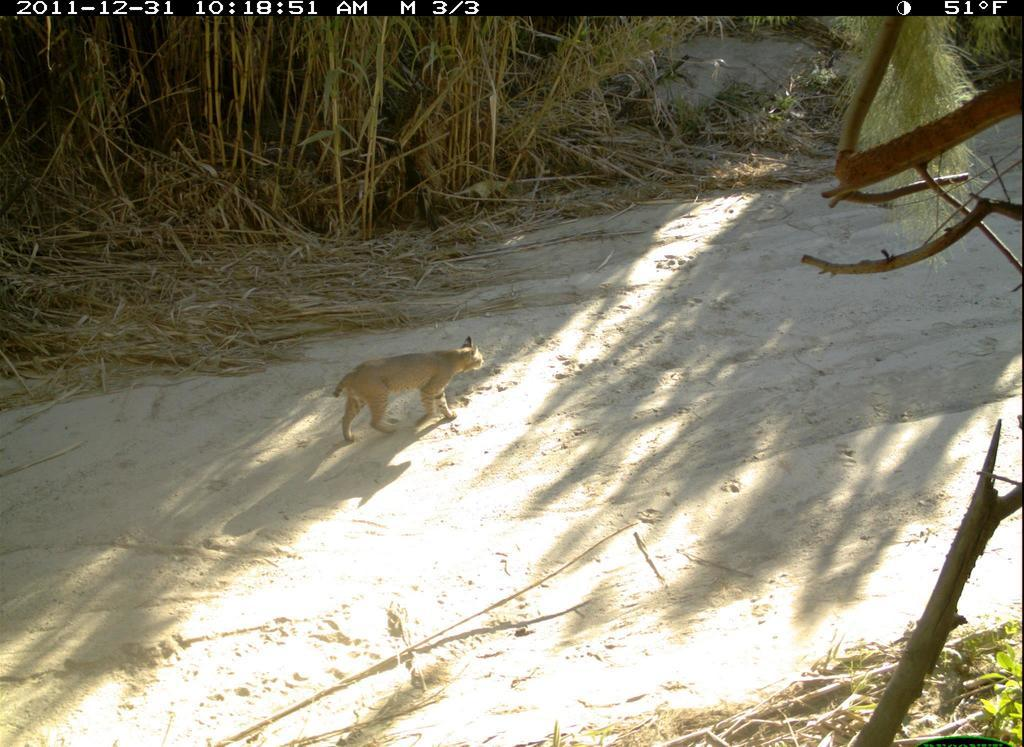bobcat: (326, 331, 498, 445)
